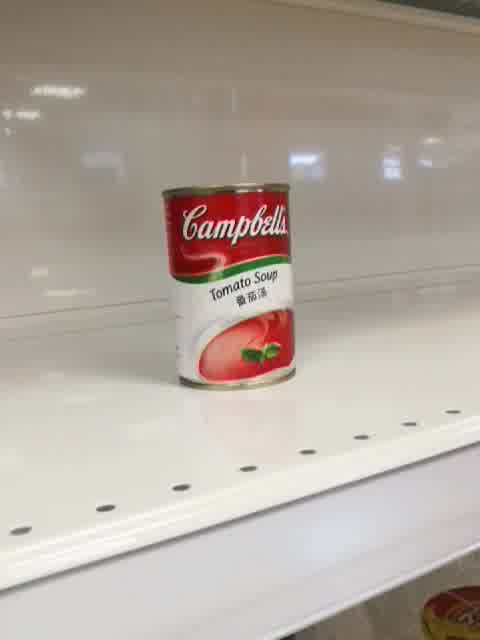tomatosoup: (160, 180, 297, 391)
